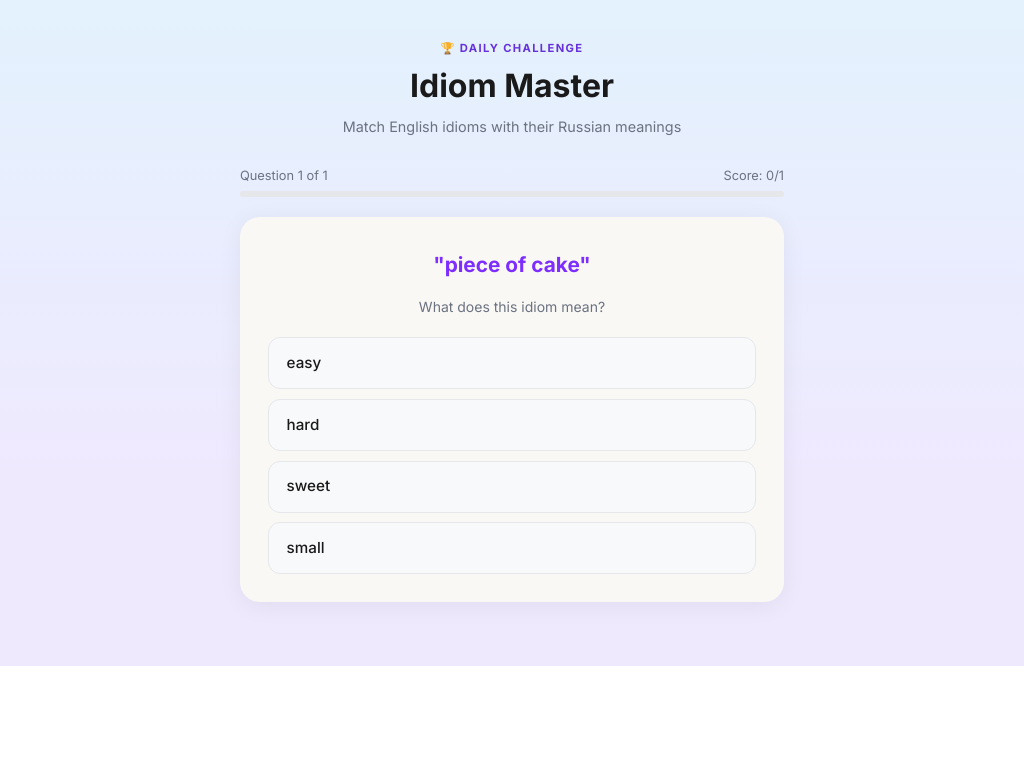
Scenario: DailyChallengePage › selects a correct answer and shows Correct! feedback
The image size is (1024, 768).
Click the button "easy" at {"x": 304, "y": 362}, box [268,337,756,389]
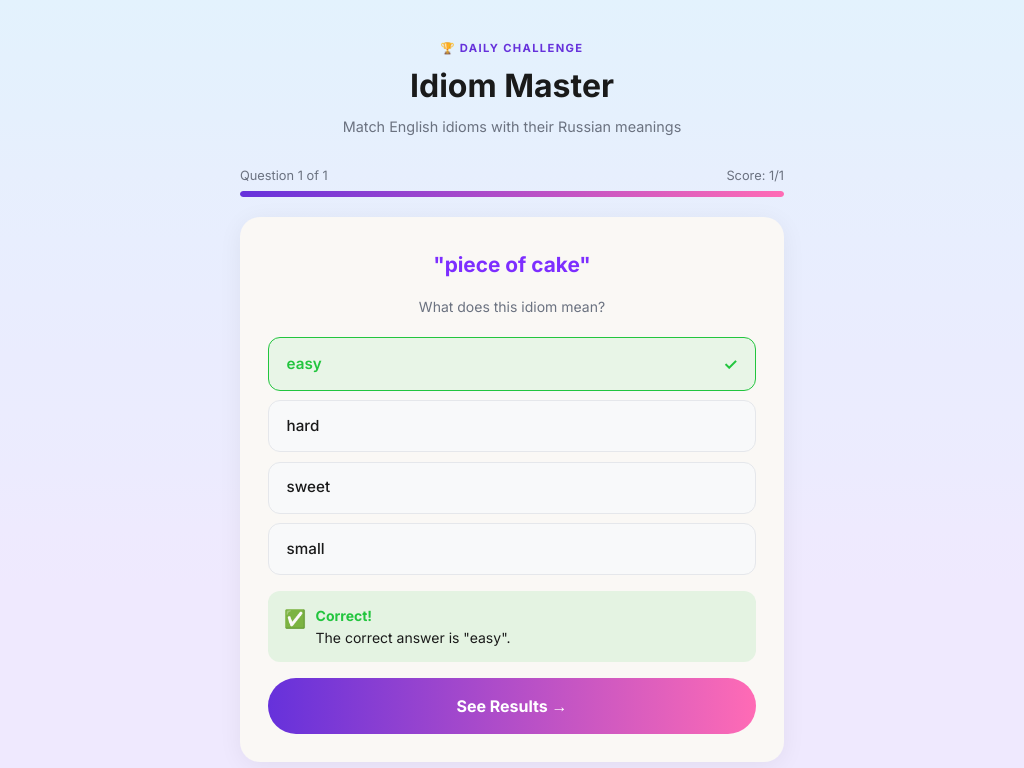
Expected: the text "Correct!" is shown, [316,607,372,624]
